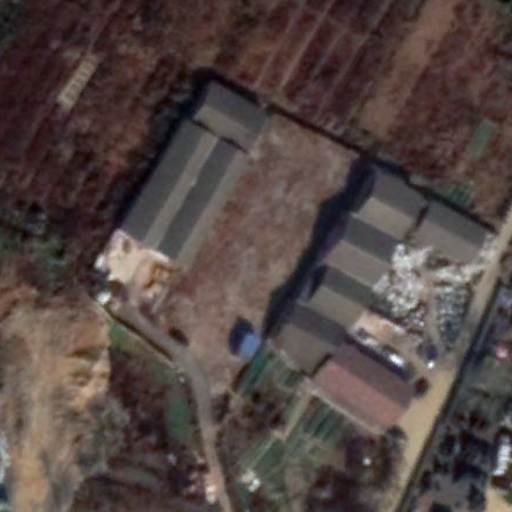msw: (370, 242, 494, 347)
